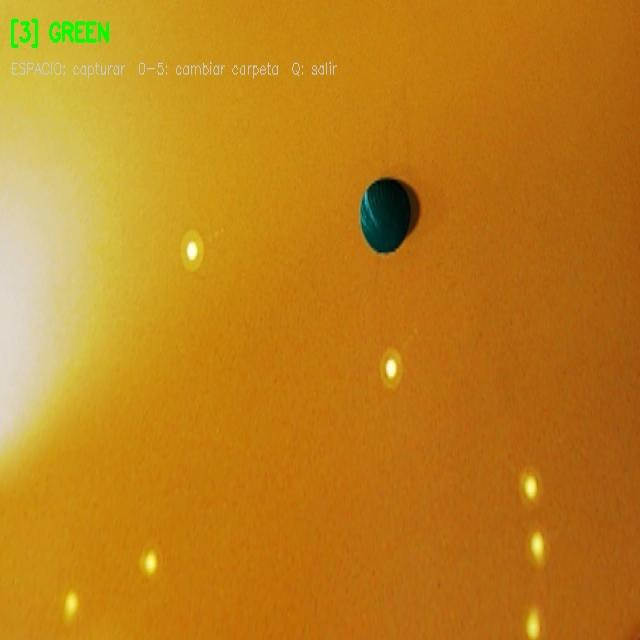green: (358, 172, 418, 256)
